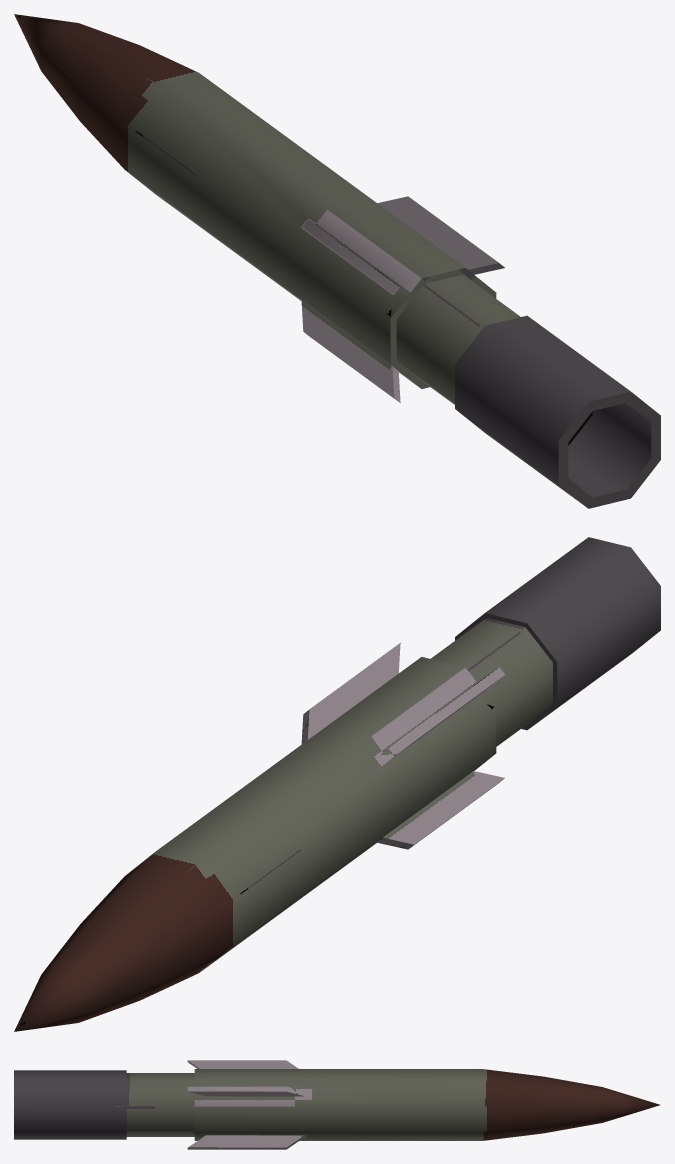
File: missile.dae
The picture shows the model from 3 angles, top to bottom: view 1: azimuth 30°, elevation 25°; view 2: azimuth 150°, elevation 25°; view 3: azimuth 270°, elevation 25°; orthographic projection. The views are drawn at different scales.
Parts seen in each view (by area): view 1: Missile; view 2: Missile; view 3: Missile.
Part boxes in pixels (<box>): Missile: <box>14,14,660,508</box>; Missile: <box>14,537,660,1031</box>; Missile: <box>14,1060,659,1149</box>.
Size of the model in its own units: 0.2834 by 2.63 by 0.2834.
Materials: 1 (1 with a texture image).
